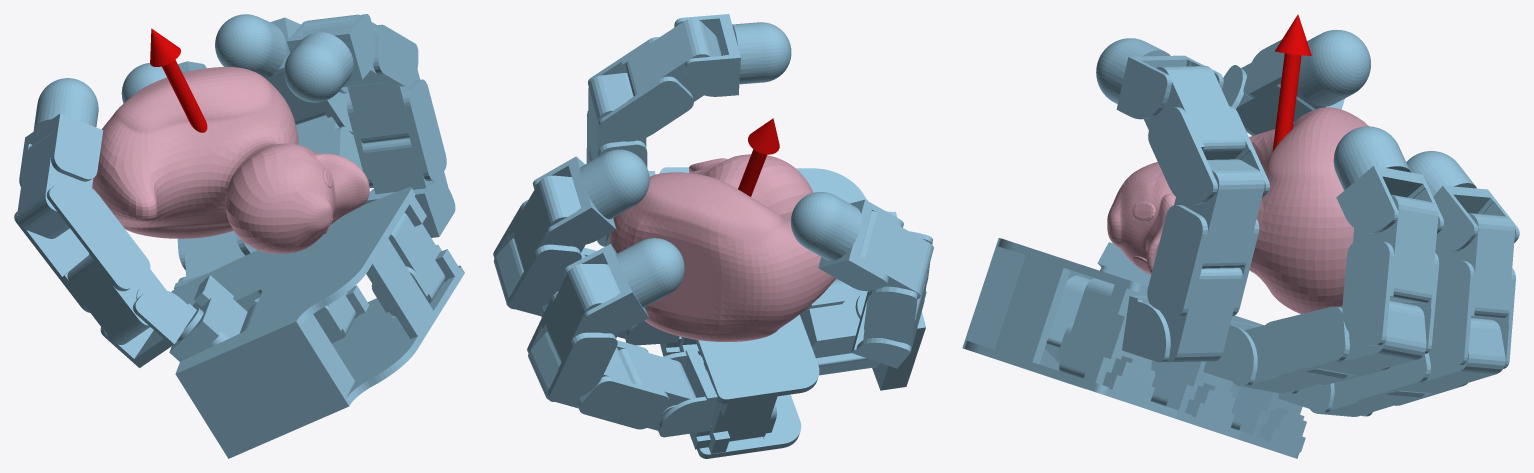
3 renders of one model, left to right at view 1: azimuth 30°, elevation 25°; view 2: azimuth 150°, elevation 25°; view 3: azimuth 270°, elevation 25°, orthographic. The views are drawn at different scales.
Visible parts, largest first — view 1: world, rubber_duck.stl; view 2: world, rubber_duck.stl; view 3: world, rubber_duck.stl.
Part boxes in pixels (bbox=[...]): world: bbox=[14, 14, 464, 458]; rubber_duck.stl: bbox=[92, 67, 369, 253]; world: bbox=[493, 14, 933, 458]; rubber_duck.stl: bbox=[609, 154, 836, 341]; world: bbox=[962, 14, 1519, 458]; rubber_duck.stl: bbox=[1107, 107, 1368, 313].
Size of the model in its own units: 0.1754 by 0.1671 by 0.1953.
